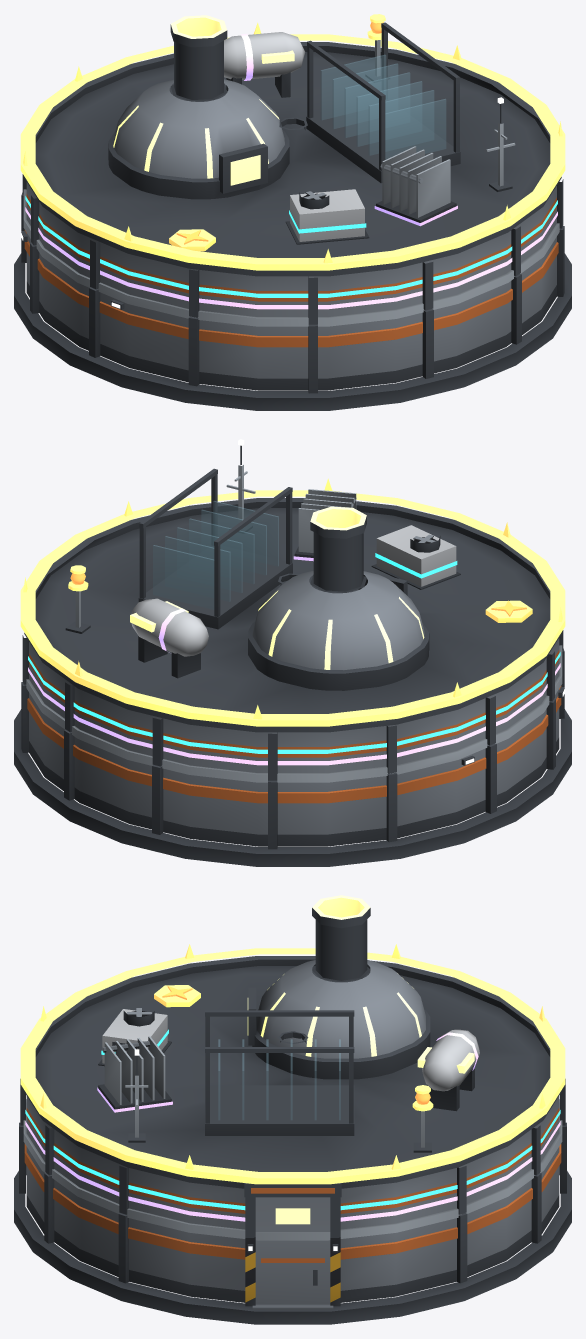
Rendered from glassworks.glb.
3 views of the same model, one above another, from view 1: azimuth 30°, elevation 25°; view 2: azimuth 150°, elevation 25°; view 3: azimuth 270°, elevation 25° (orthographic).
Visible parts, largest first — view 1: Roof, Base, L5, L4, L3, L2; view 2: Roof, Base, L5, L4, L3, L2; view 3: Roof, Base, L5, L4, L2, L3.
Part boxes in pixels (<box>): Roof: <box>22,15,563,324</box>; Base: <box>14,192,571,410</box>; L5: <box>20,14,565,270</box>; L4: <box>25,32,557,309</box>; L3: <box>25,117,557,297</box>; L2: <box>23,97,559,326</box>; Roof: <box>22,468,563,780</box>; Base: <box>14,648,571,866</box>; L5: <box>20,478,565,726</box>; L4: <box>28,489,560,765</box>; L3: <box>28,525,560,753</box>; L2: <box>26,439,562,782</box>; Roof: <box>20,895,565,1237</box>; Base: <box>14,1122,571,1324</box>; L5: <box>20,944,565,1184</box>; L4: <box>25,1029,560,1221</box>; L2: <box>23,1049,562,1240</box>; L3: <box>25,1008,560,1210</box>.
Bounding box in the file's own units: 9.72 × 5.09 × 9.72.
